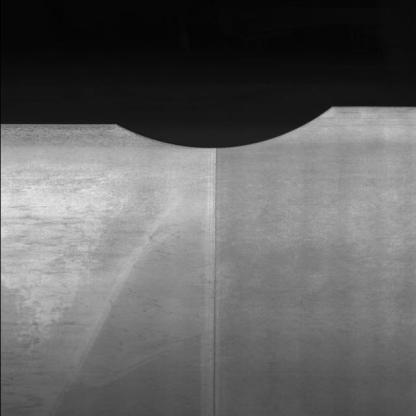crescent_gap: (91, 96, 342, 159)
